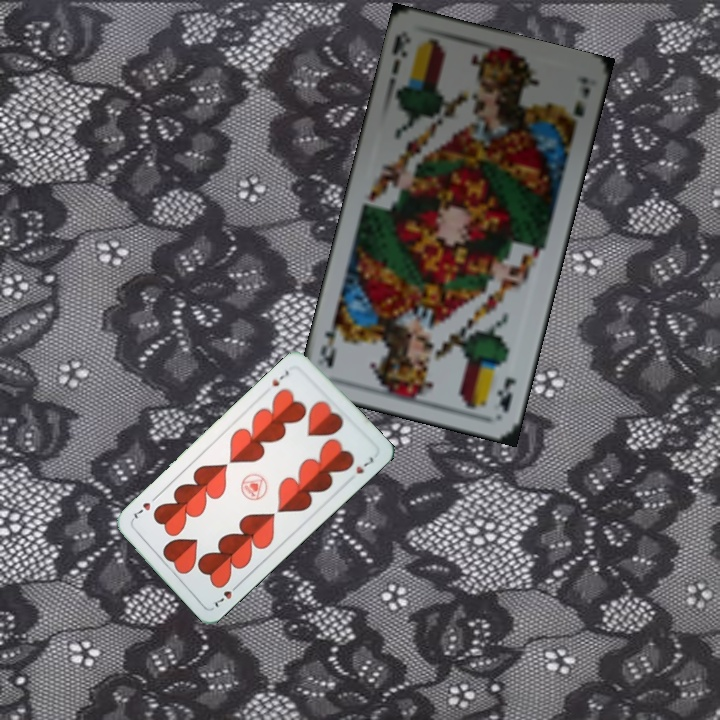EK: (388, 30, 414, 76), (494, 373, 520, 414)
H7: (211, 579, 242, 610), (268, 366, 292, 389)
